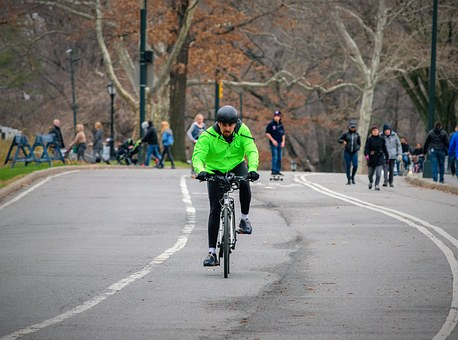bikerider: (184, 102, 264, 281)
